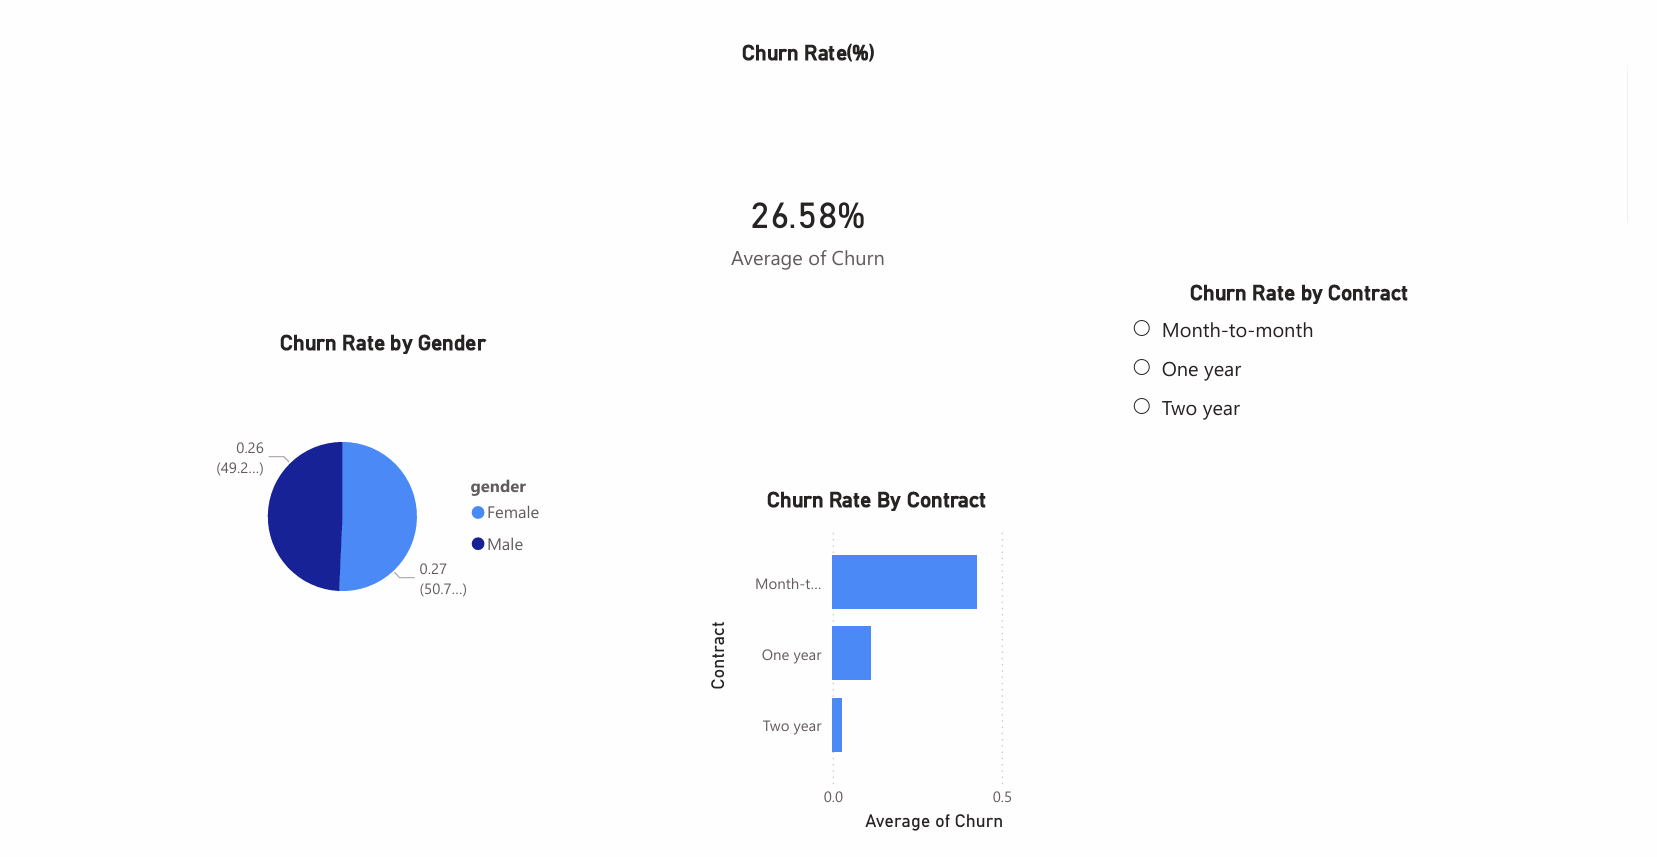

This screenshot's page, from the dashboard's own definition file:
{"tool":"powerbi","page":{"name":"Page 1","canvas":[1280,720],"ordinal":0},"visuals":[{"type":"clusteredBarChart","title":"Churn Rate By Contract","fields":{"Y":["Avg(churn_cleaned.Churn)"],"Category":["churn_cleaned.Contract"]},"box":[539.3,373.2,279.9,279.9],"z":0},{"type":"pieChart","title":"Churn Rate by Gender","fields":{"Y":["Avg(churn_cleaned.Churn)"],"Category":["churn_cleaned.gender"]},"box":[144.1,247,279.9,279.9],"z":1000},{"type":"listSlicer","title":"Churn Rate by Contract","fields":{"Values":["churn_cleaned.Contract"]},"box":[876.8,207.2,279.9,279.9],"z":2000},{"type":"card","title":"Churn Rate(%)","fields":{"Values":["Avg(churn_cleaned.Churn)"]},"box":[484.4,15.1,279.9,279.9],"z":3000}]}

Visuals, with their boxes on the page's 1280x720 design canvas (x1, y1, x2, y2). These are canvas units, not pixel positions in the 1657x857 screenshot, which may show the page scaled, cropped or inside an application window:
"Churn Rate By Contract" clusteredBarChart: 539, 373, 819, 653
"Churn Rate by Gender" pieChart: 144, 247, 424, 527
"Churn Rate by Contract" listSlicer: 877, 207, 1157, 487
"Churn Rate(%)" card: 484, 15, 764, 295
